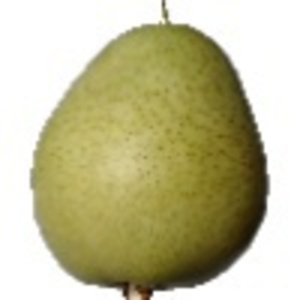pera: (29, 1, 269, 300)
